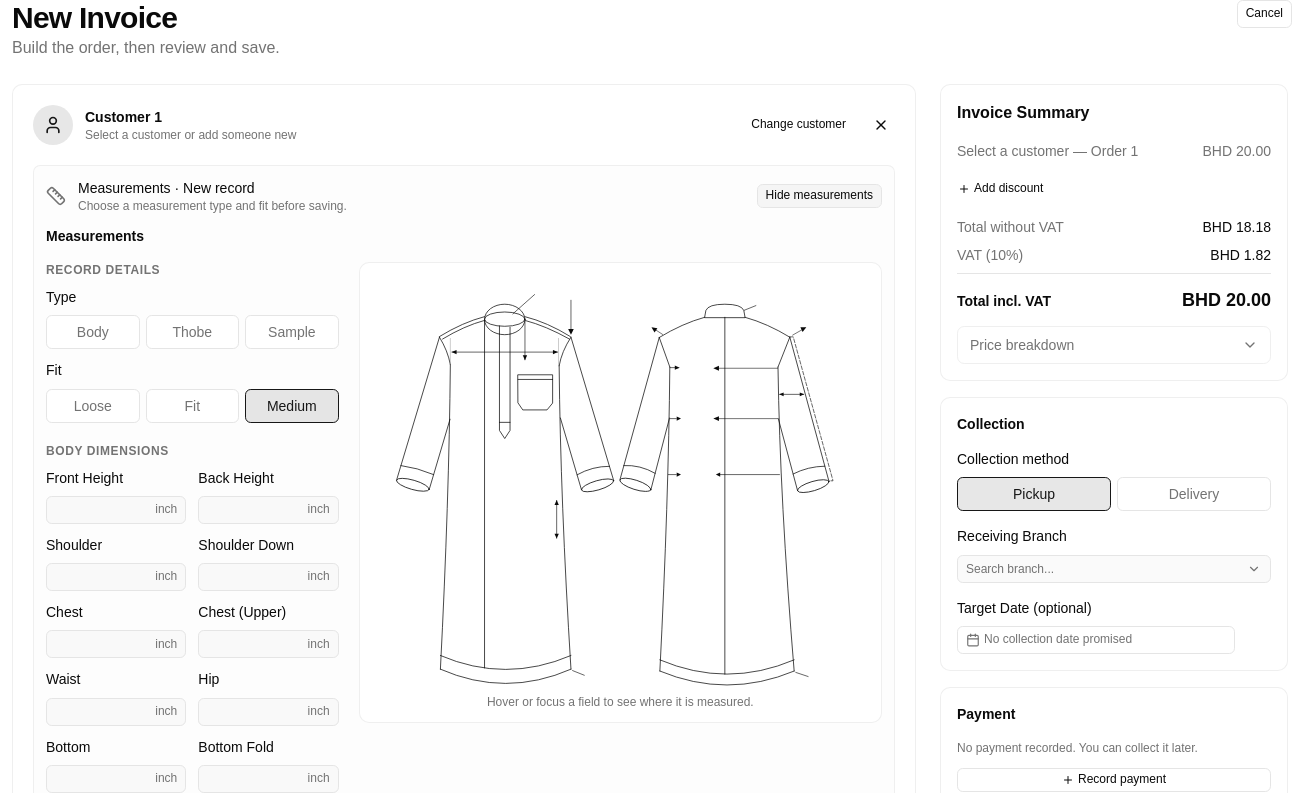
Test: Invoice workspace › opens missing measurement details even when staff have hidden them
Click the button "Hide measurements".
click(819, 196)  # box x1=757 y1=184 x2=882 y2=208
(page scrolled)
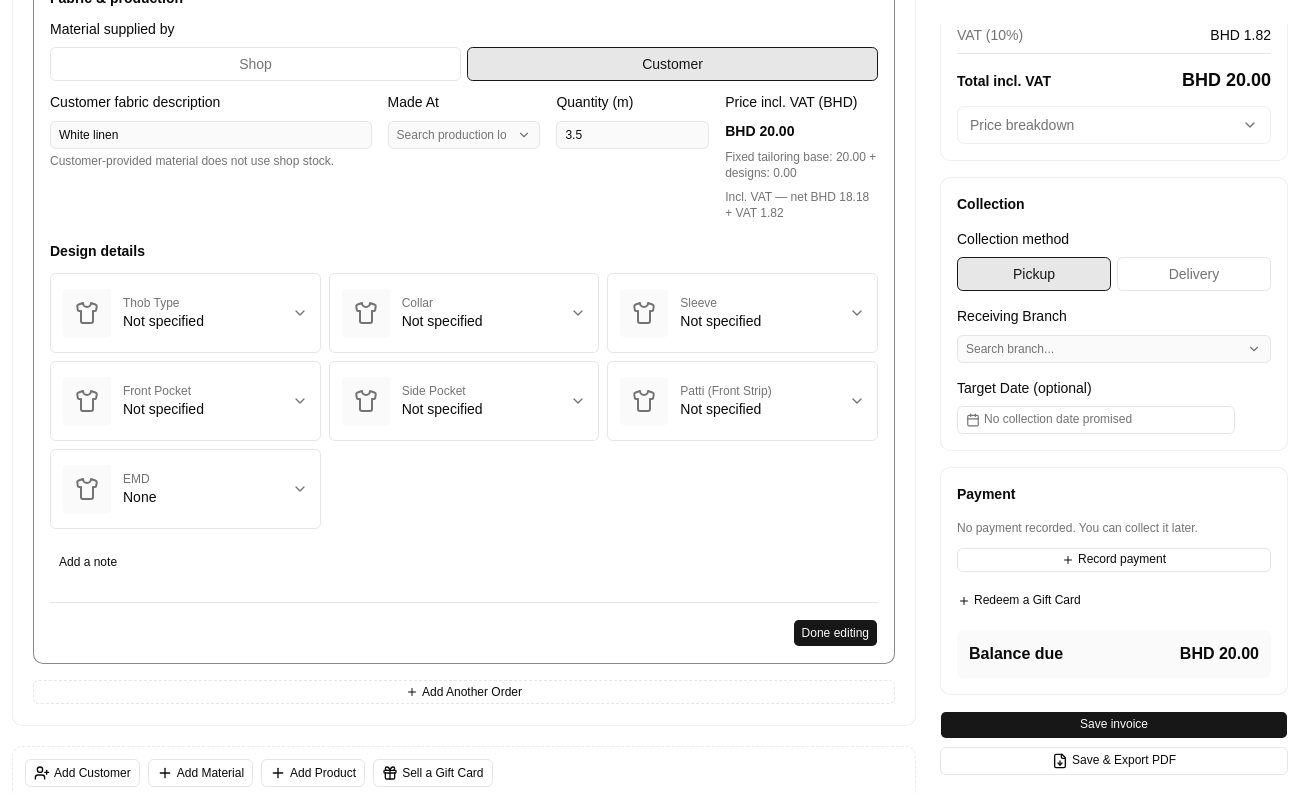
Expected: the radio button labelled "Body" is gone
Click the button "Save invoice".
click(1114, 725)  # box x1=940 y1=711 x2=1288 y2=739
(page scrolled)
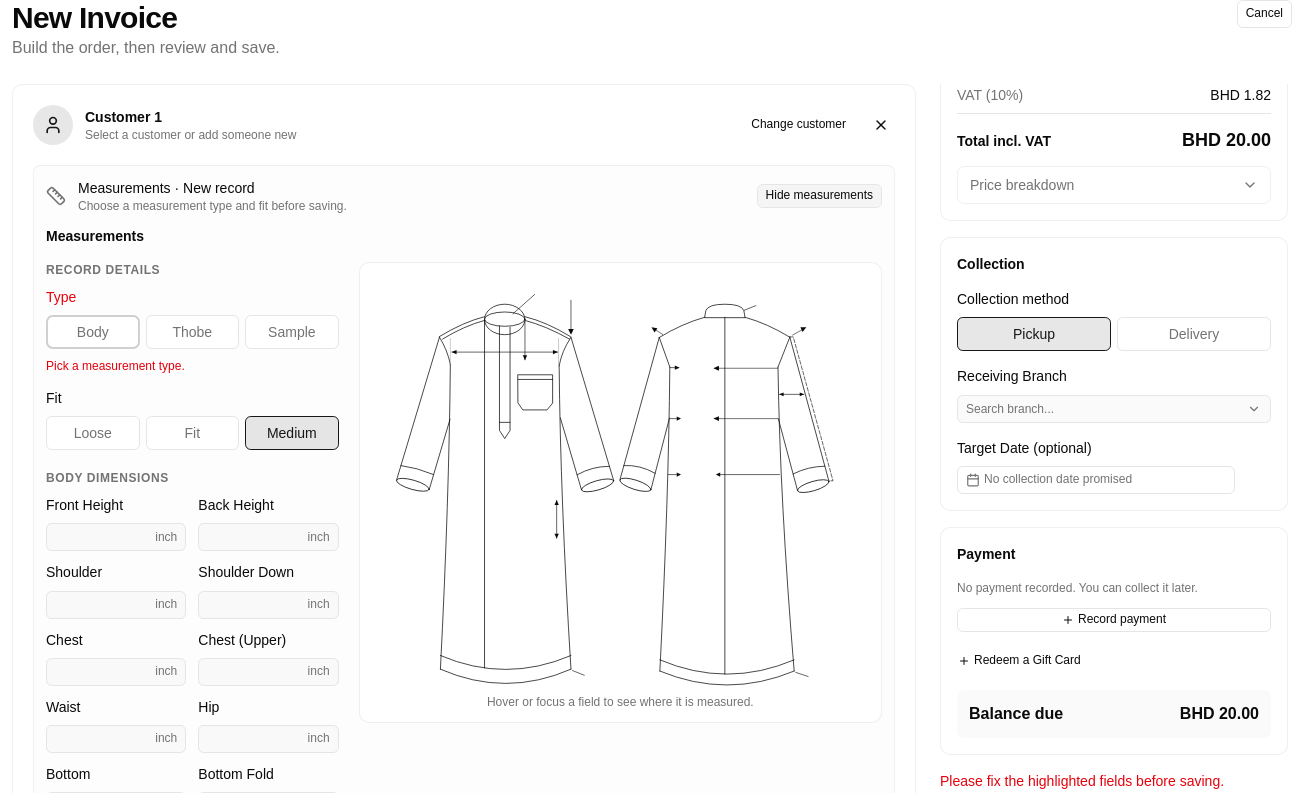
Expected: the radio button labelled "Body" is shown, x1=46 y1=315 x2=140 y2=349
